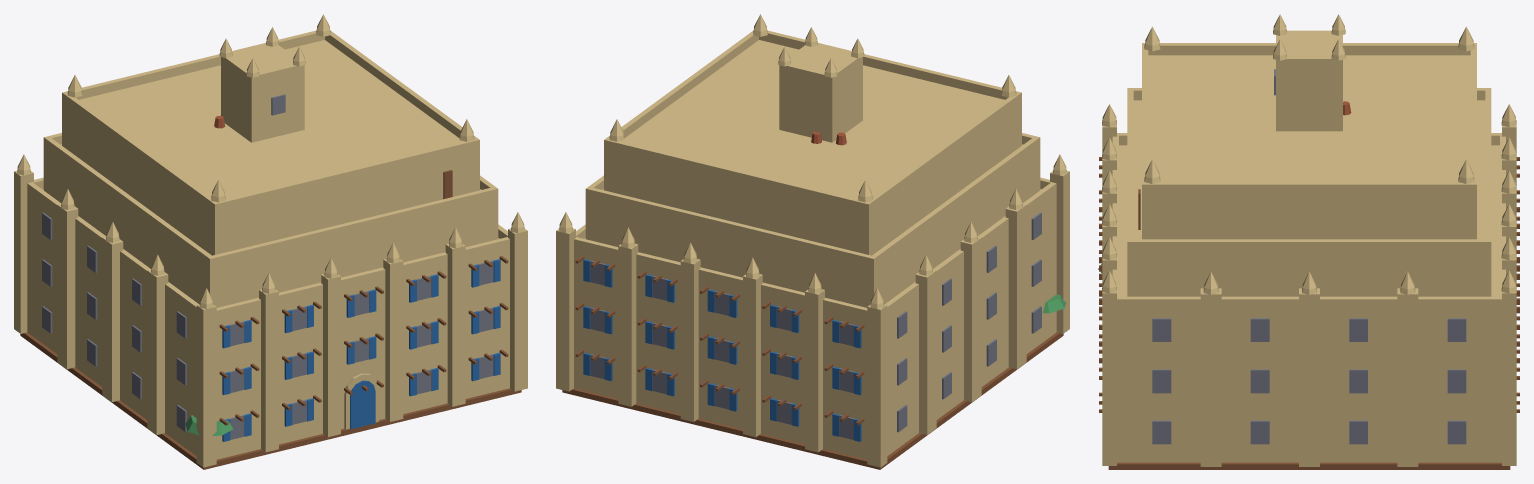
The model's file is house-2x2-5f-banco-a.glb.
3 renders of one model, left to right at view 1: azimuth 30°, elevation 25°; view 2: azimuth 150°, elevation 25°; view 3: azimuth 270°, elevation 25°, orthographic. The views are drawn at different scales.
Parts seen in each view (by area): view 1: house-2x2-5f-banco-a; view 2: house-2x2-5f-banco-a; view 3: house-2x2-5f-banco-a.
Boxes of the visible parts, x1,y1,x2,y2 form: house-2x2-5f-banco-a: (14,14,527,469); house-2x2-5f-banco-a: (556,14,1069,469); house-2x2-5f-banco-a: (1098,14,1519,469).
Size of the model in its own units: 2.01 by 1.87 by 2.02.
1 material, 1 textured.
